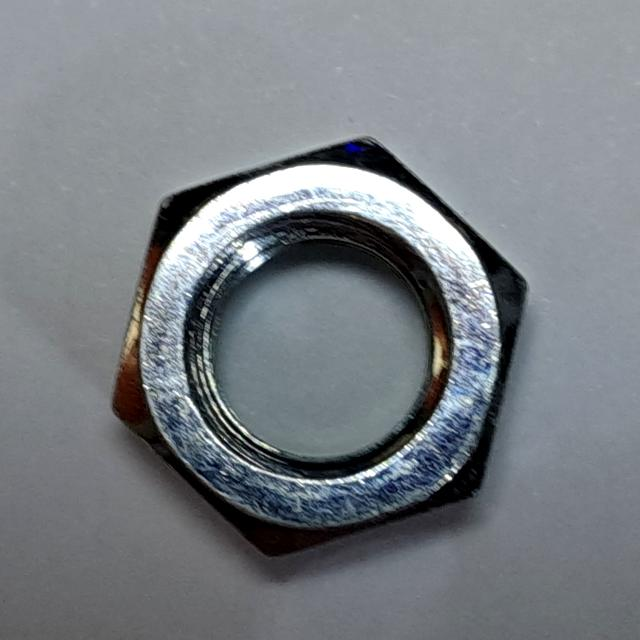Excellent: (98, 121, 539, 573)
